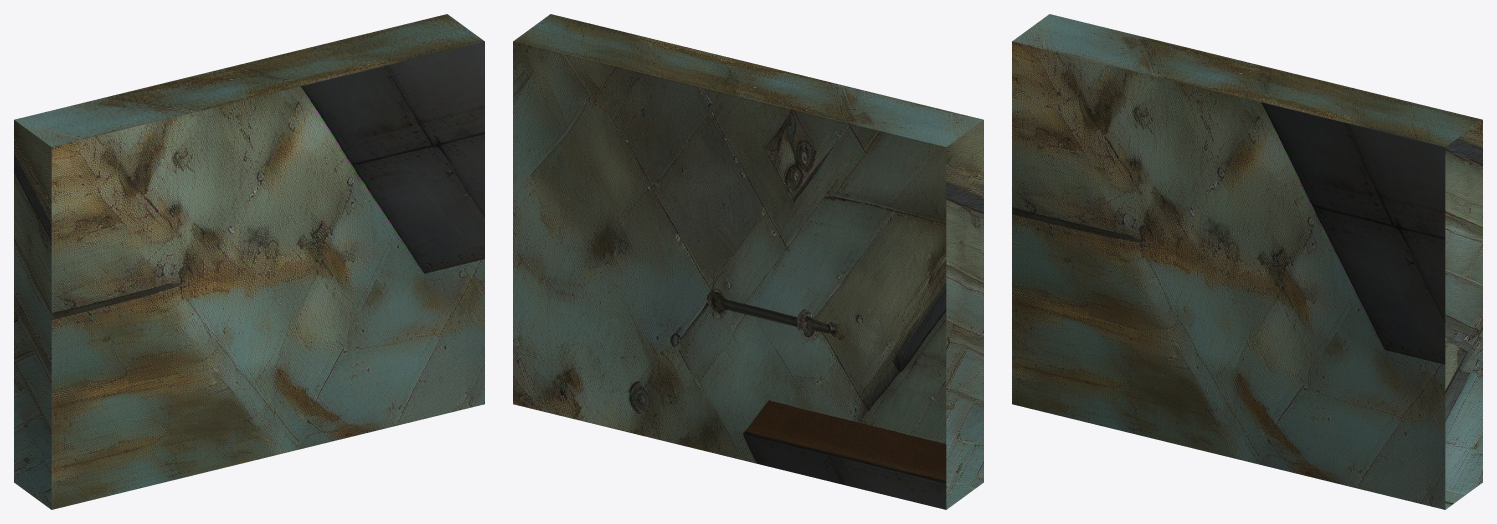
Rendered from pillar_support_1x1_textured.glb.
3 renders of one model, left to right at view 1: azimuth 30°, elevation 25°; view 2: azimuth 150°, elevation 25°; view 3: azimuth 330°, elevation 25°, orthographic.
Visible parts, largest first — view 1: Visual_pillar_support_1x1; view 2: Visual_pillar_support_1x1; view 3: Visual_pillar_support_1x1.
Boxes of the visible parts, x1,y1,x2,y2 form: Visual_pillar_support_1x1: (14,14,484,509); Visual_pillar_support_1x1: (513,14,983,509); Visual_pillar_support_1x1: (1012,14,1482,509).
Size of what is drawn, in the model's own units: 4 by 3.2 by 0.6.
Materials: 1 (1 with a texture image).
